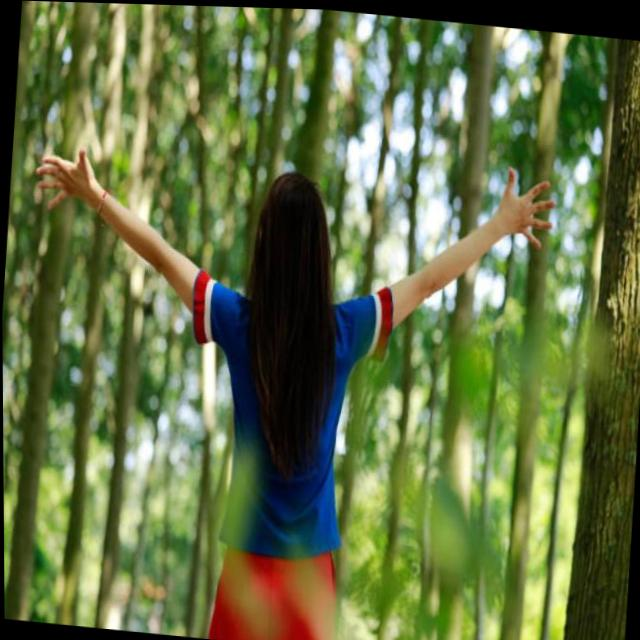no helmet: (213, 158, 359, 462)
